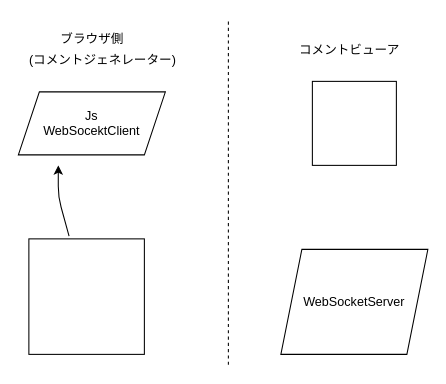
Some shapes in this 446 by 384 pixel diagram are drawn without their labels. Each missing label, with the centre of its shape:
"HTML" goes at pixel 86 296.
"アプリ本体" goes at pixel 353 122.
